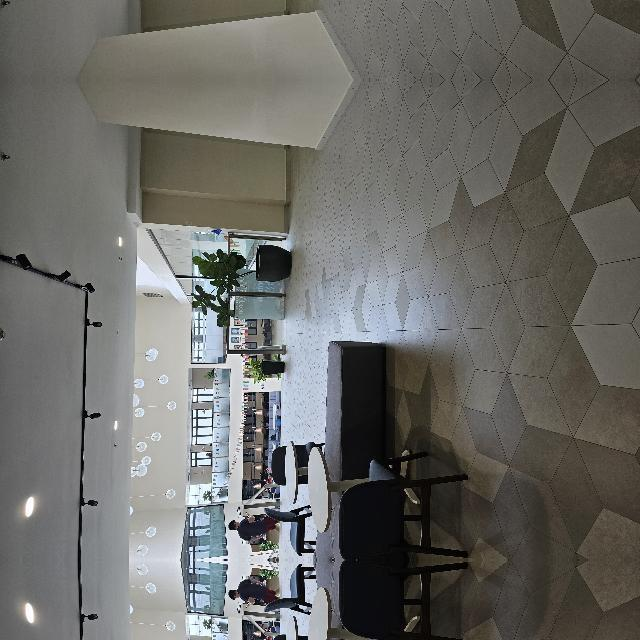obstacle: (2, 352, 220, 540), (1, 579, 220, 640), (267, 310, 315, 372)
person: (16, 306, 49, 364)
